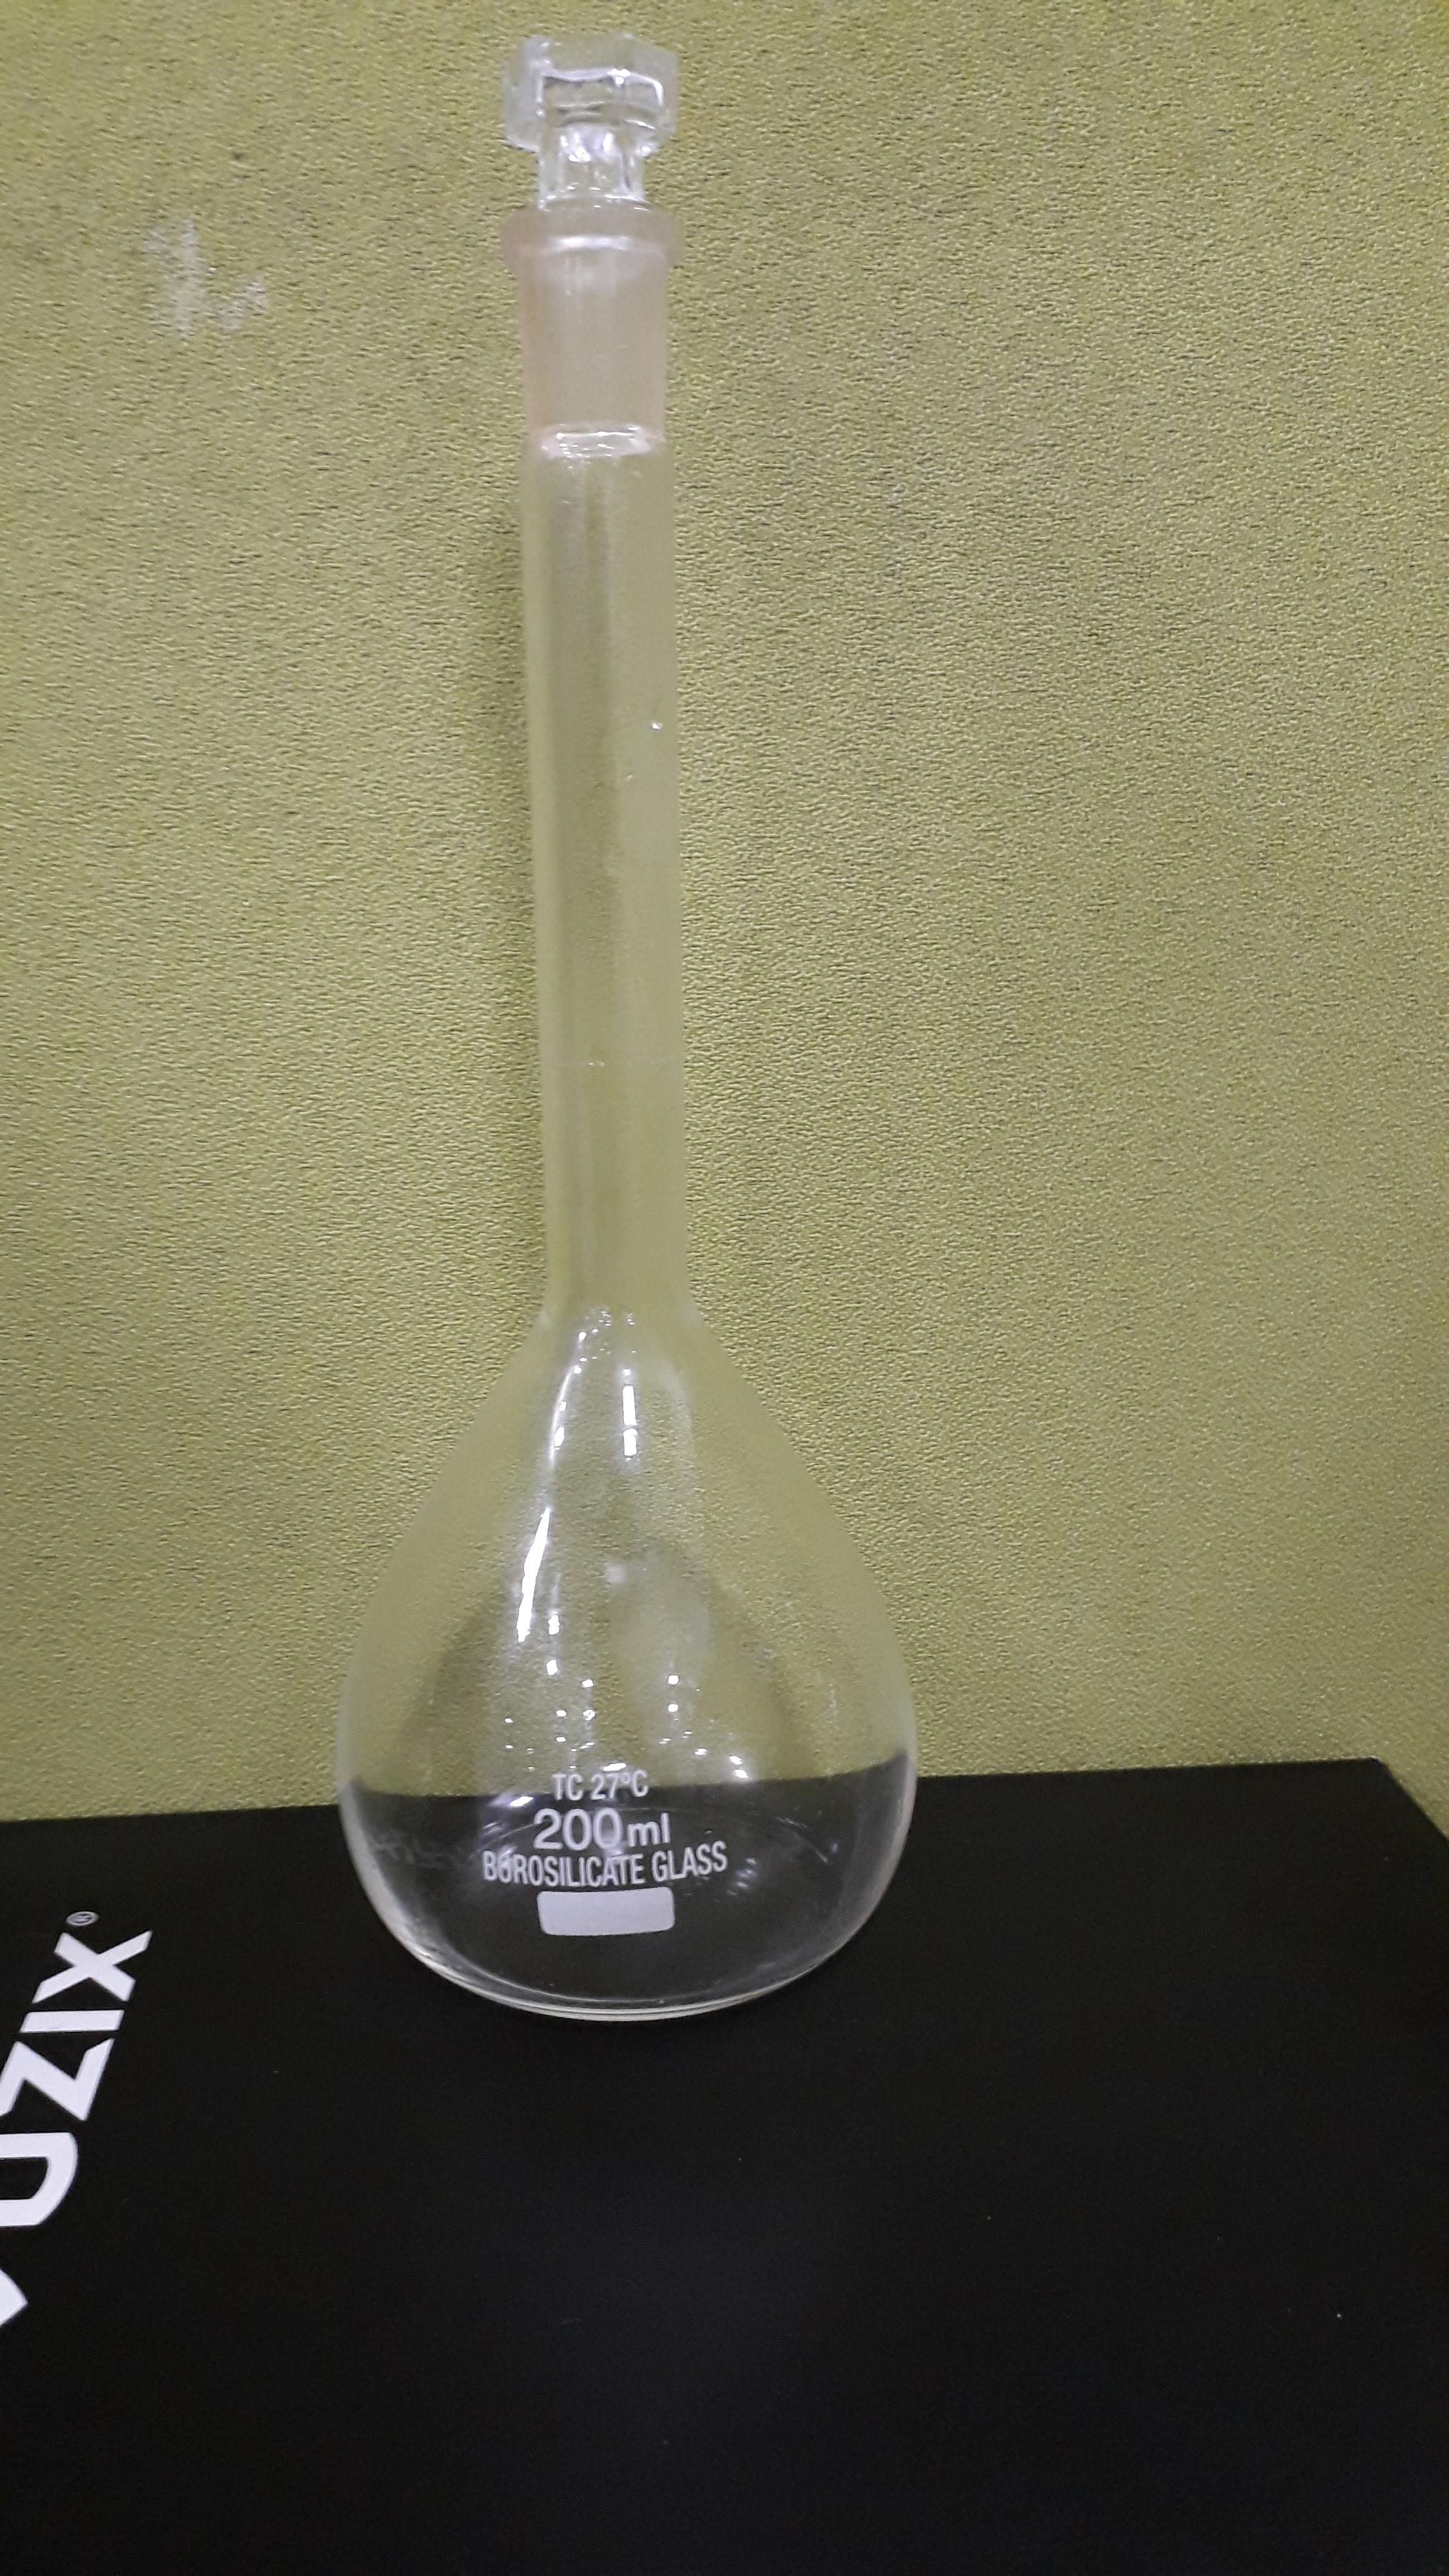Volumetric flask: (269, 62, 945, 2026)
